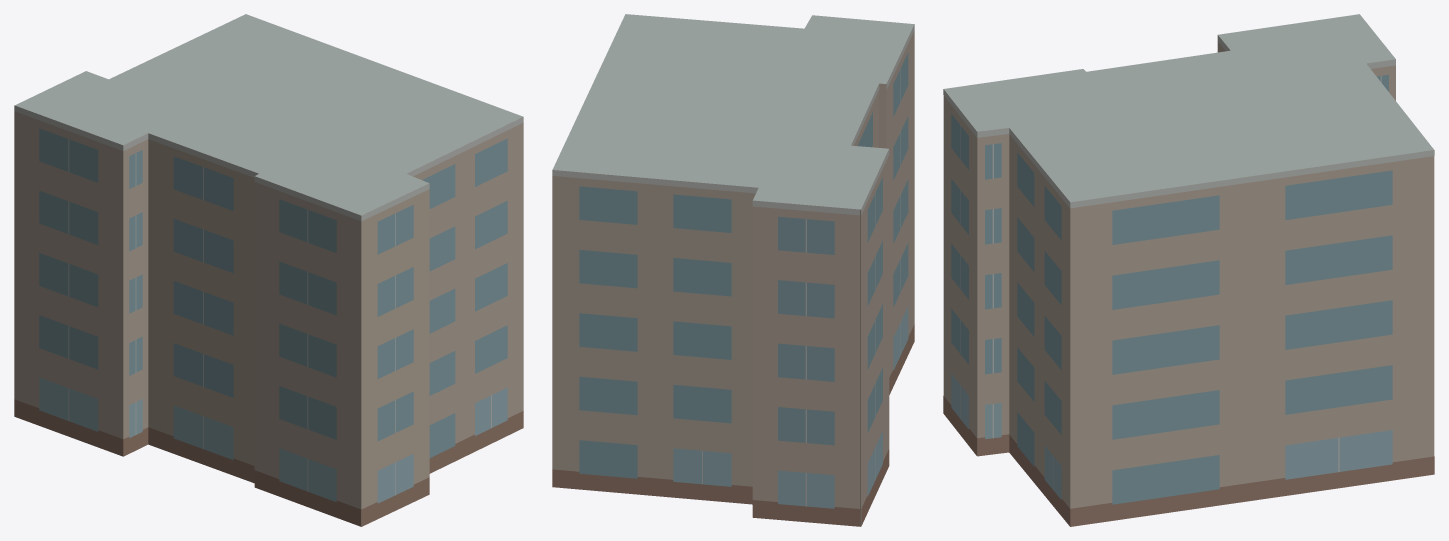
Rendered from survey-upis-32976753.glb.
3 views of the same model, side by side, from view 1: azimuth 30°, elevation 25°; view 2: azimuth 150°, elevation 25°; view 3: azimuth 270°, elevation 25° (orthographic). The views are drawn at different scales.
Visible parts, largest first — view 1: survey-upis-32976753.tmp; view 2: survey-upis-32976753.tmp; view 3: survey-upis-32976753.tmp.
Boxes of the visible parts, bbox=[...] form: survey-upis-32976753.tmp: bbox=[14, 14, 523, 526]; survey-upis-32976753.tmp: bbox=[552, 14, 914, 526]; survey-upis-32976753.tmp: bbox=[943, 14, 1434, 526].
Size of the model in its own units: 16.32 by 13.1 by 17.97.
